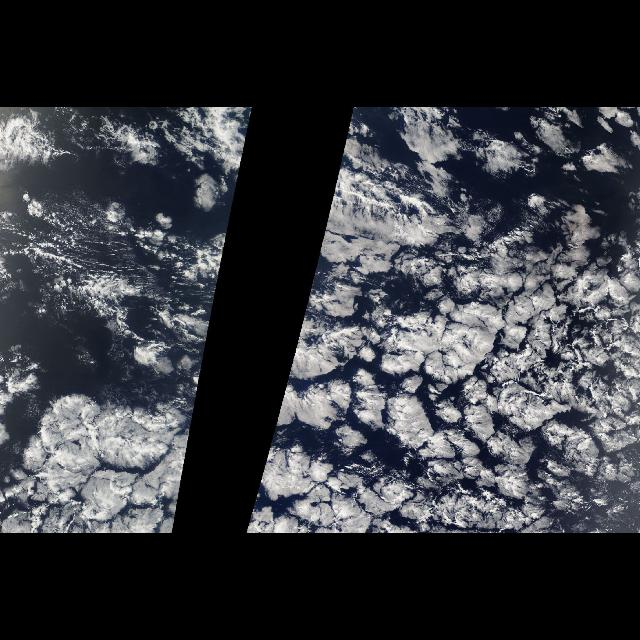Flower: (327, 199, 639, 533)
